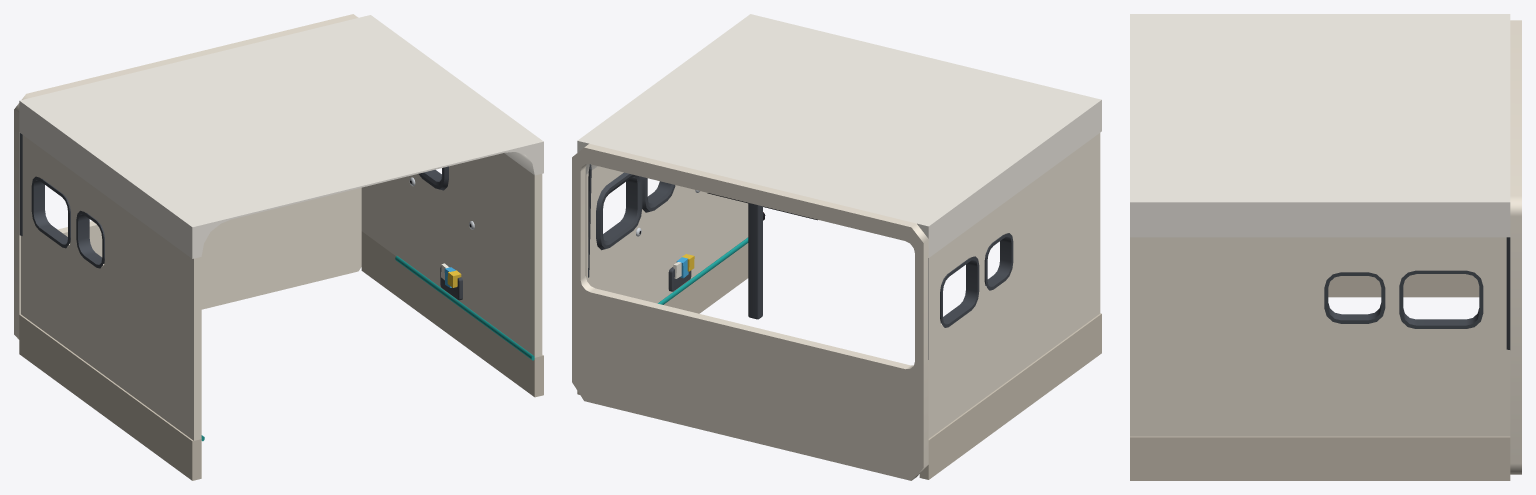
The model's file is CabinaForro.fbx.
The picture shows the model from 3 angles, left to right: view 1: azimuth 30°, elevation 25°; view 2: azimuth 150°, elevation 25°; view 3: azimuth 270°, elevation 25°; orthographic projection. The views are drawn at different scales.
Visible parts, largest first — view 1: CabinaForro; view 2: CabinaForro; view 3: CabinaForro.
Boxes of the visible parts, x1,y1,x2,y2 form: CabinaForro: (14, 14, 543, 480); CabinaForro: (572, 14, 1101, 480); CabinaForro: (1130, 14, 1521, 480).
Bounding box in the file's own units: 11.6 × 8 × 10.2.
1 material, 1 textured.
